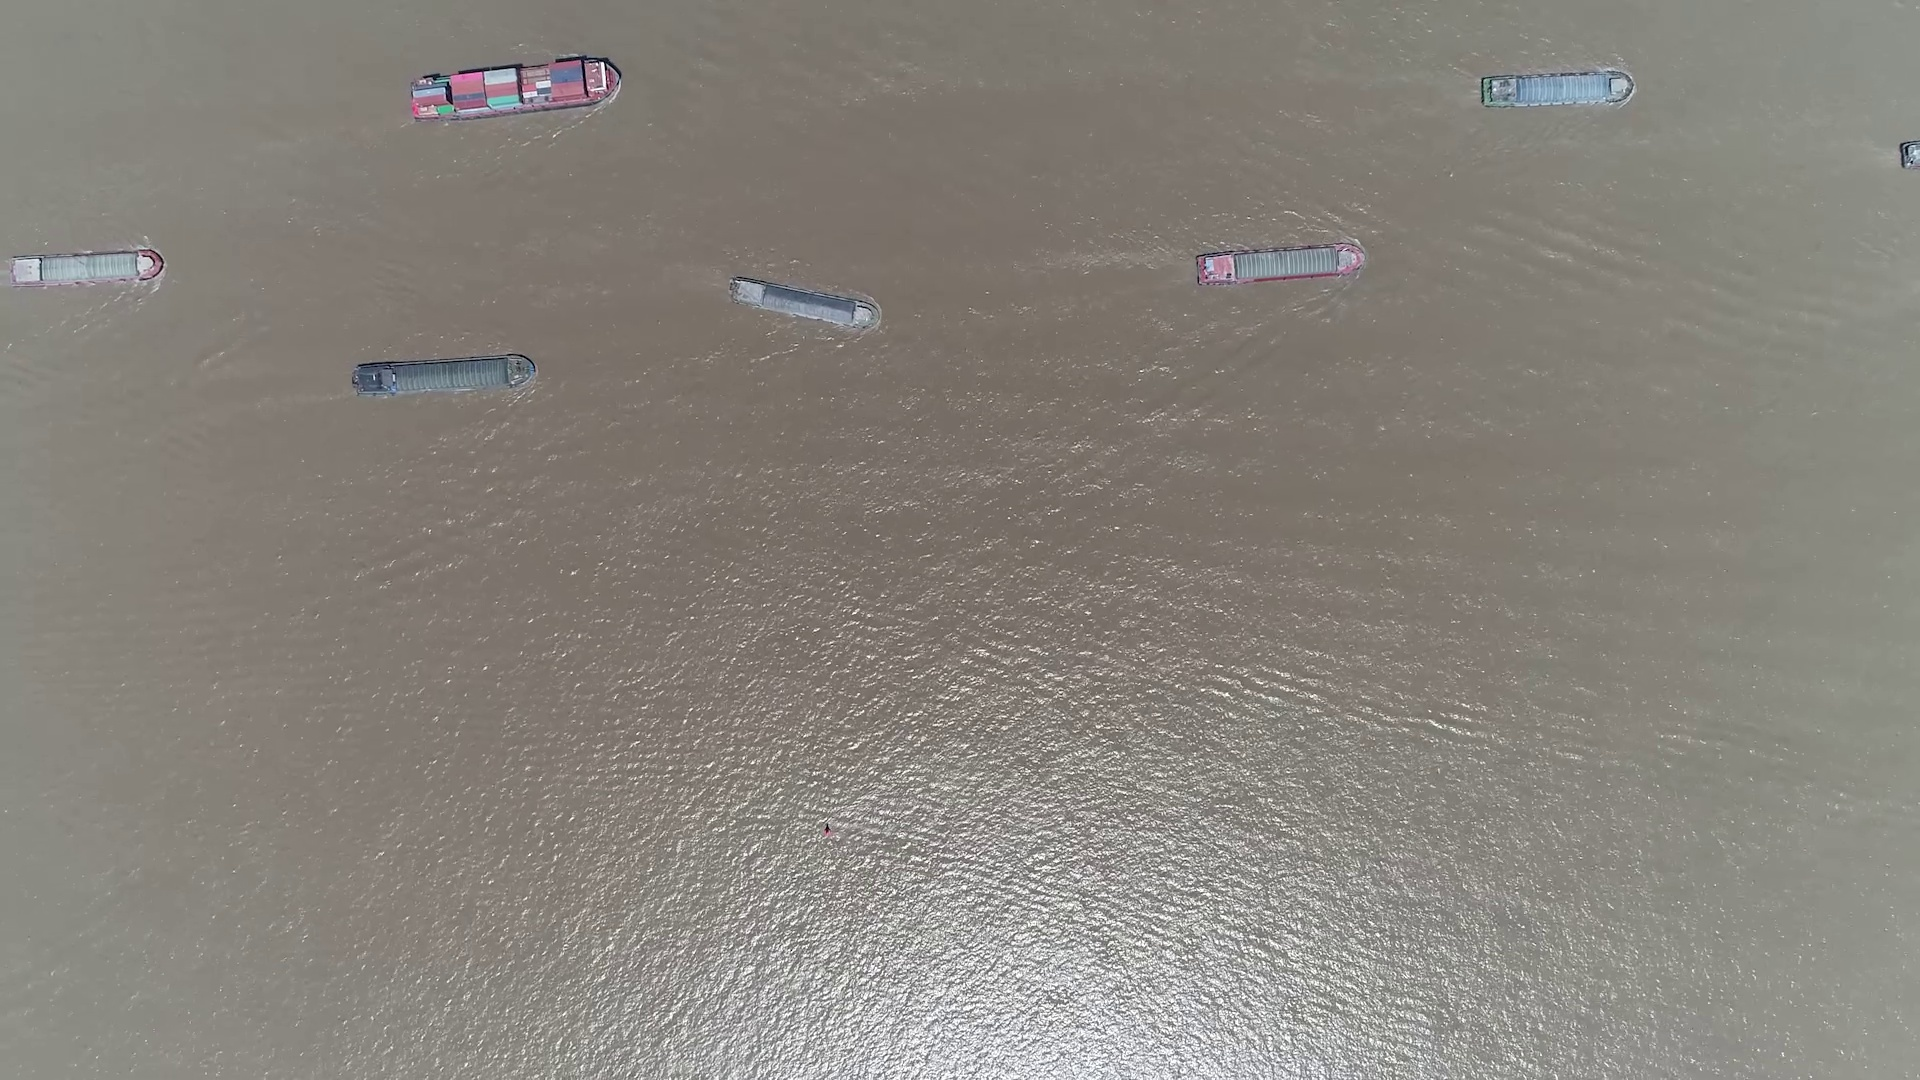ship: (409, 61, 620, 123), (729, 276, 880, 330), (352, 353, 535, 396), (1197, 243, 1364, 284), (1478, 71, 1631, 107), (8, 251, 164, 285)
